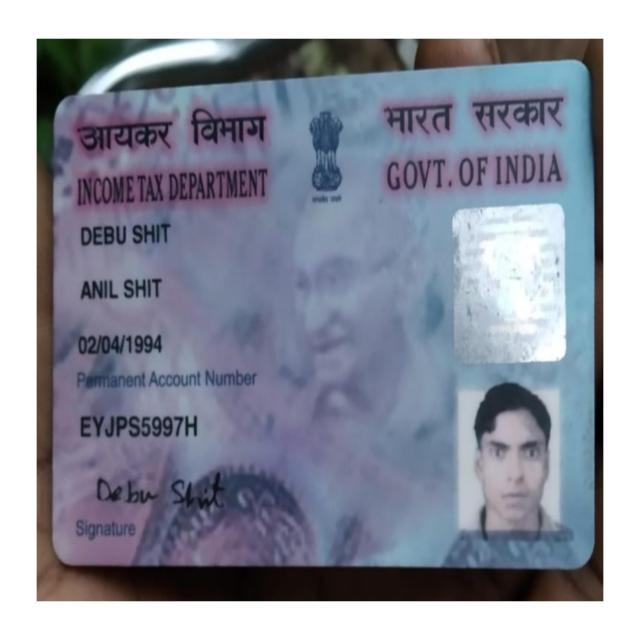pan_card: (58, 66, 590, 562)
